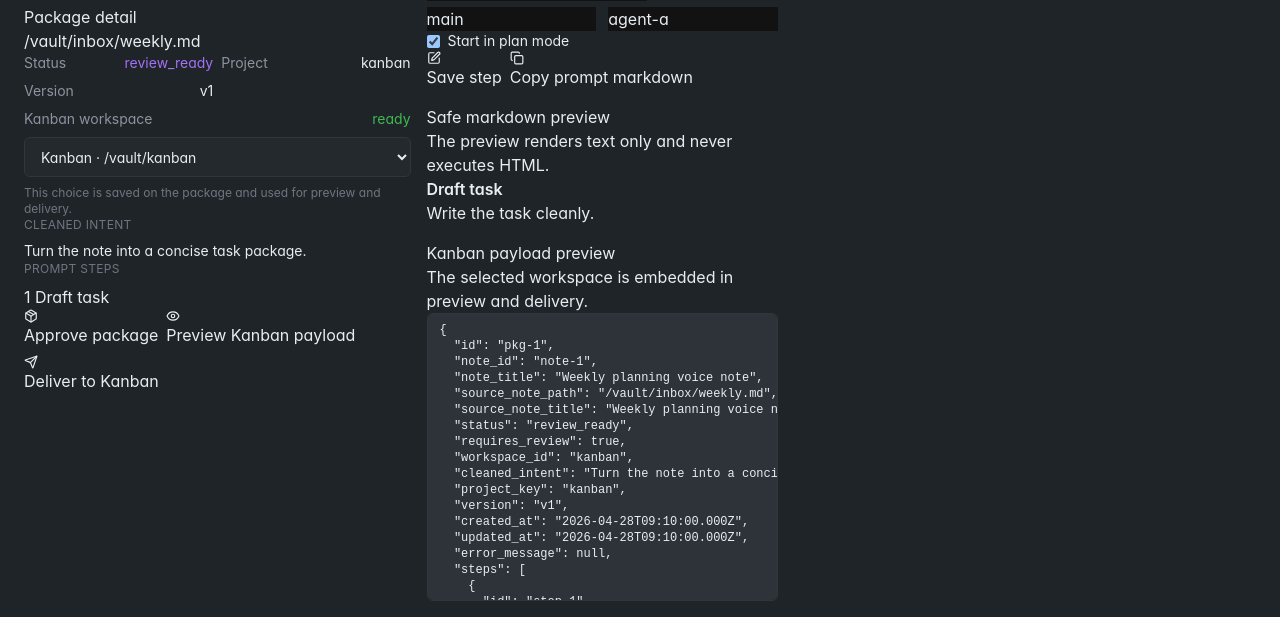
it: Kanban Prompt Companion UI › delivers to Kanban and shows the result
The width and height of the screenshot is (1280, 617).
(page scrolled)
Click the button "Deliver to Kanban" at [91, 374], box x1=24 y1=355 x2=159 y2=393
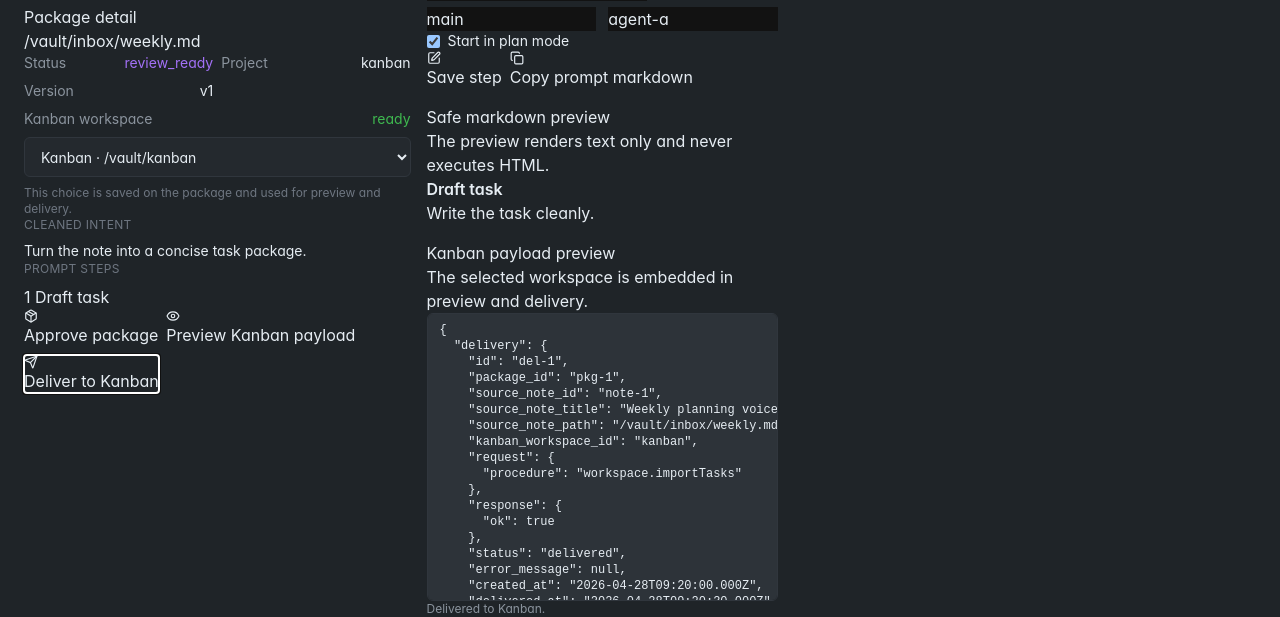
Expected: the text "Delivered to Kanban." is shown, x1=426 y1=601 x2=545 y2=616
